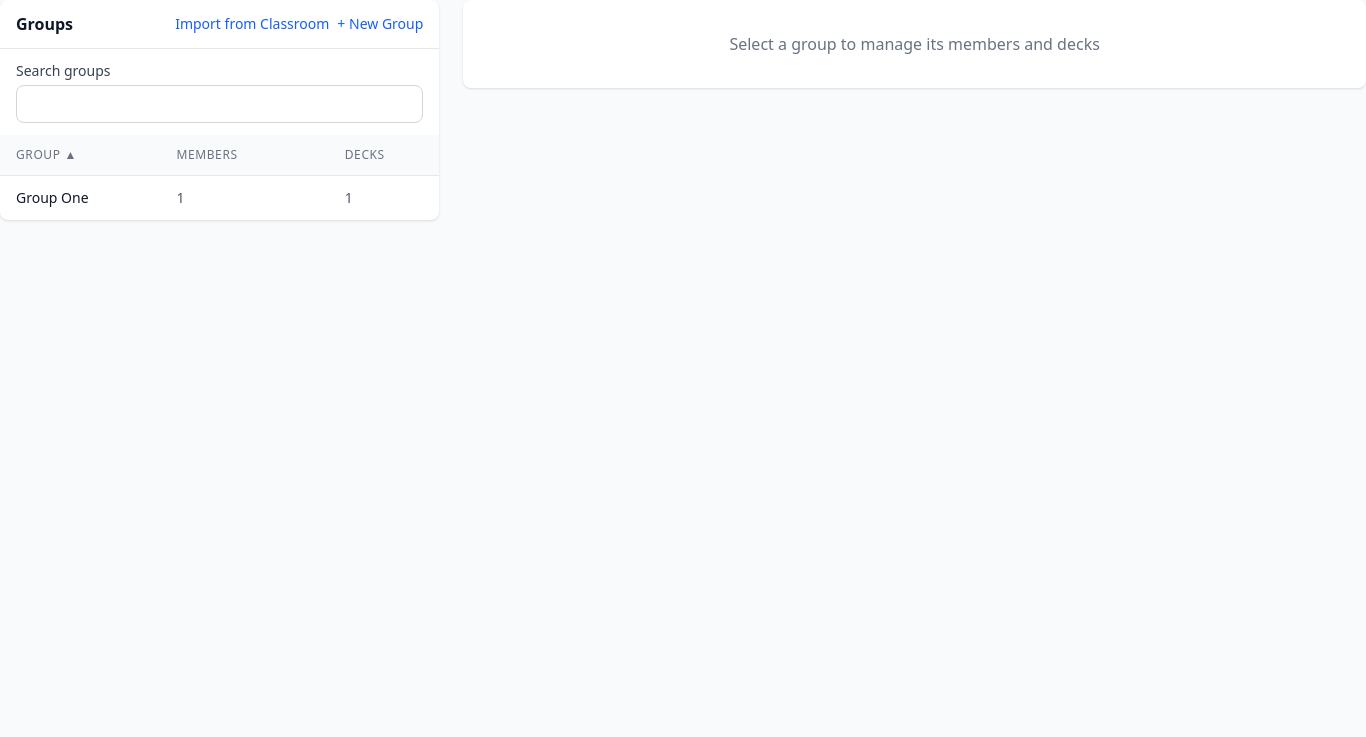
Test: GroupManager › refreshes members and shows confirmation when adding a user to a group
Click the button "Group One".
click(52, 198)  # box [16,188,89,208]
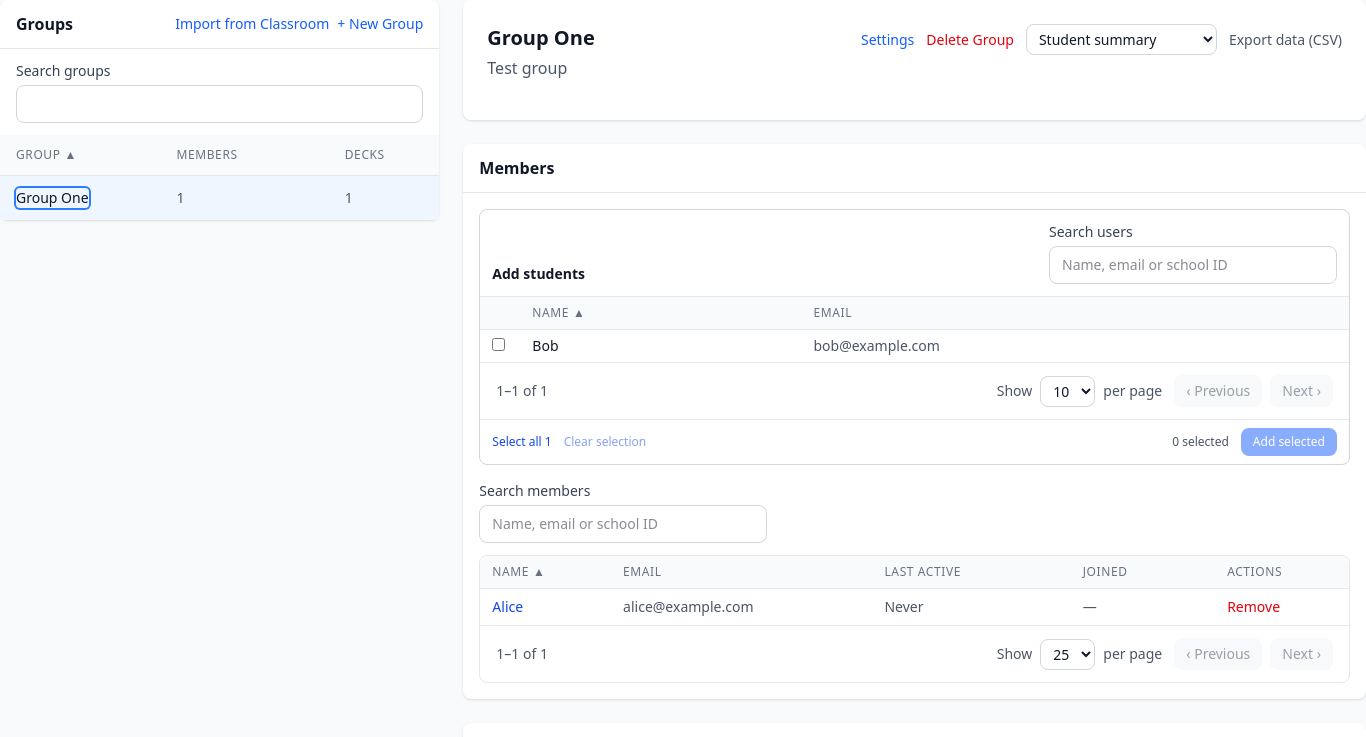
Type "bob" into the search field labelled "Search users".
click(1193, 265); type("bob")  # box [1049,246,1337,284]
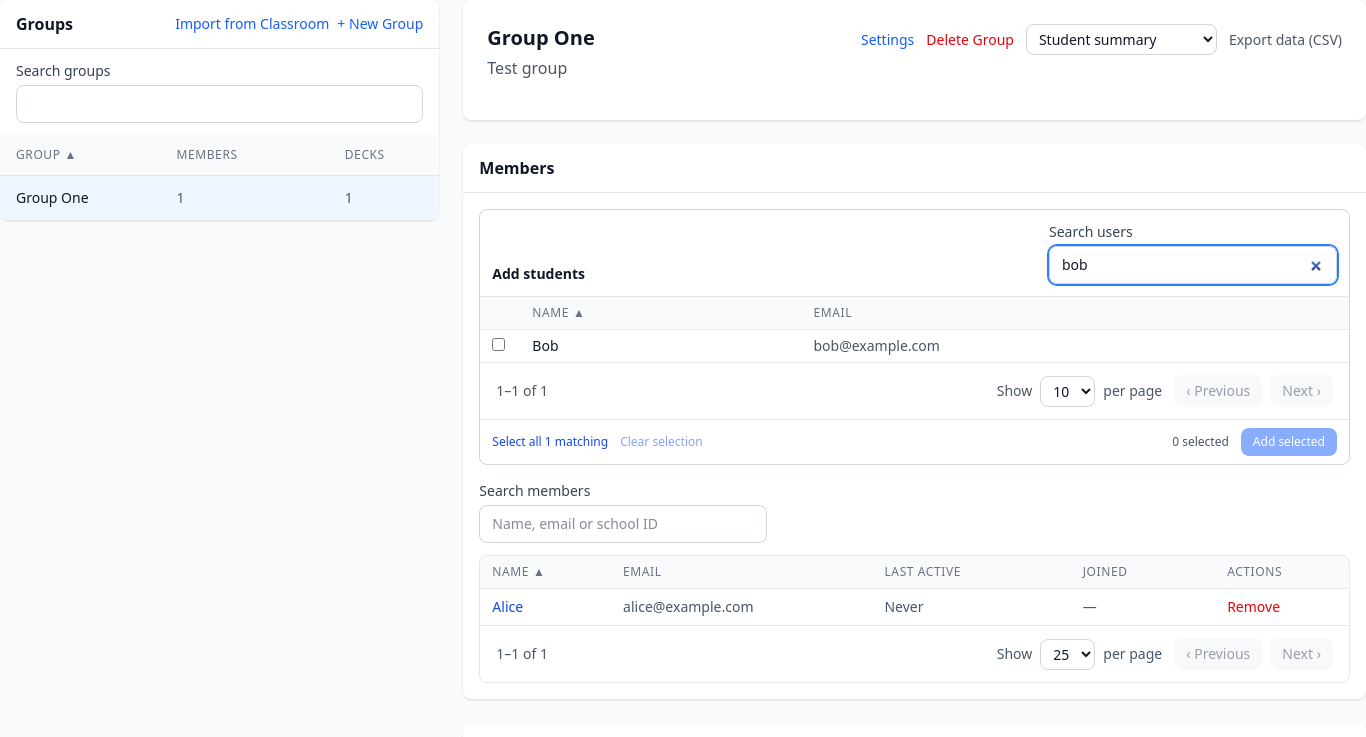
Click the checkbox labelled "Bob".
click(499, 344)  # box [492,338,505,351]
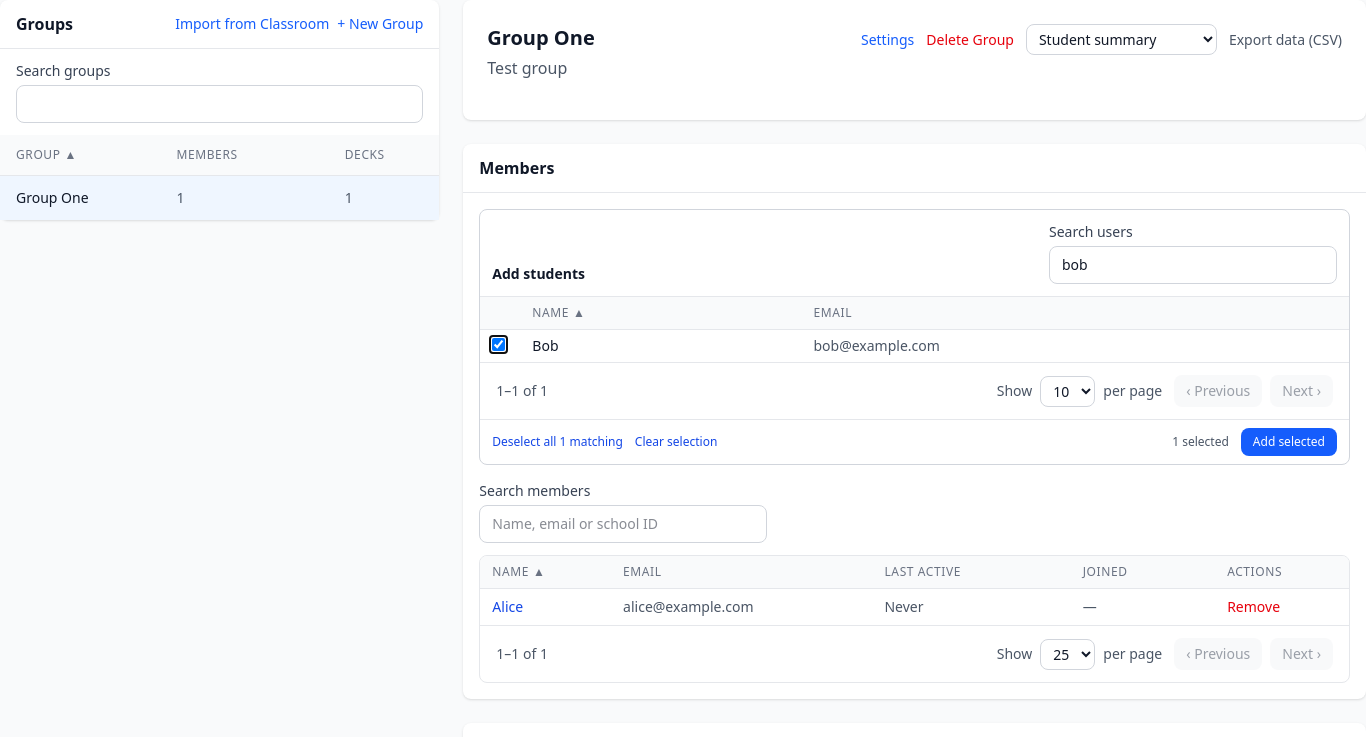
Click the button "Add selected".
click(1289, 442)  # box [1241,428,1337,456]
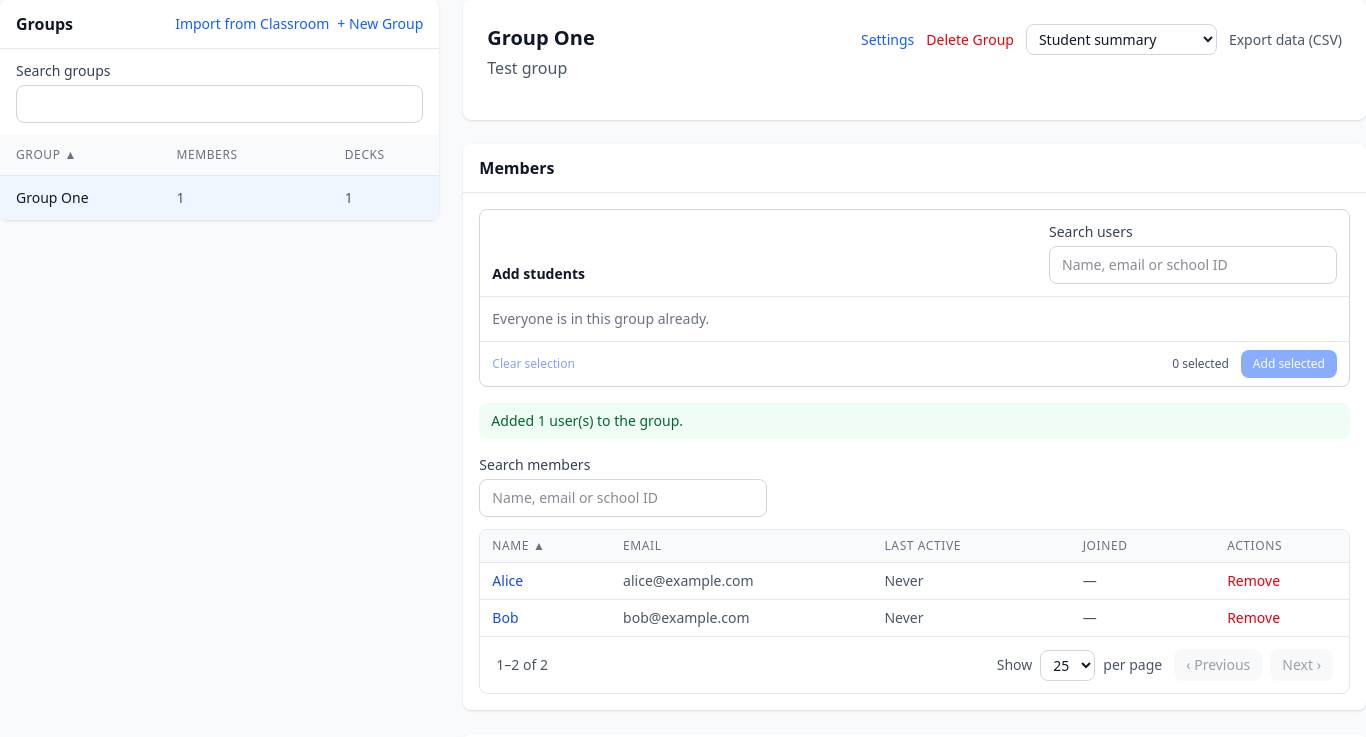
Check: the text "Added 1 user(s) to the group." is shown, box [479,403,1350,439]
Check: the search field labelled "Search users" is empty, box [1049,246,1337,284]
Check: the text "0 selected" is shown, box [1172,356,1229,372]
